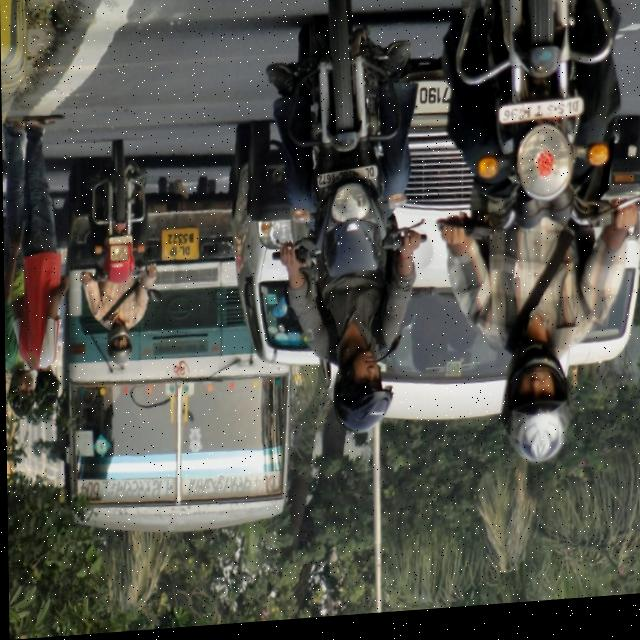plate: (497, 103, 586, 137), (311, 166, 381, 198), (160, 225, 202, 272), (105, 235, 133, 250)
